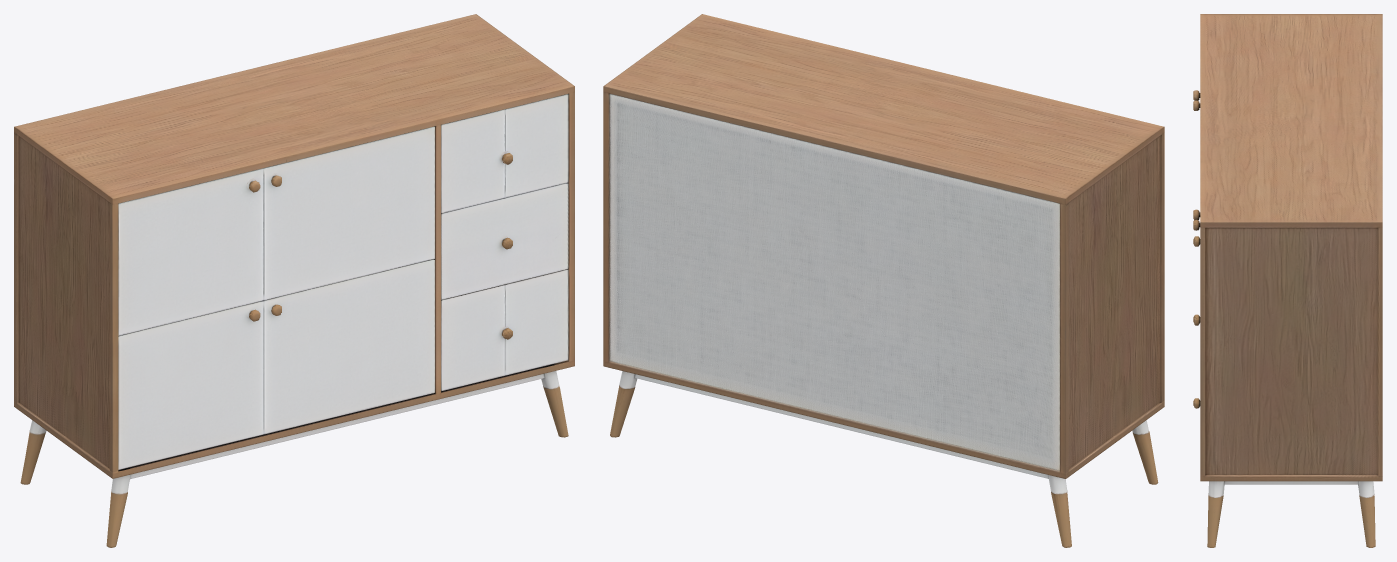
Rendered from juno-sideboard.glb.
3 views of the same model, side by side, from view 1: azimuth 30°, elevation 25°; view 2: azimuth 150°, elevation 25°; view 3: azimuth 270°, elevation 25° (orthographic). The views are drawn at different scales.
Parts seen in each view (by area): view 1: model; view 2: model; view 3: model.
Boxes of the visible parts, x1,y1,x2,y2 form: model: [14, 14, 574, 547]; model: [603, 14, 1164, 547]; model: [1193, 14, 1382, 547].
Size of the model in its own units: 1.76 by 1.28 by 0.675.
1 material, 1 textured.
